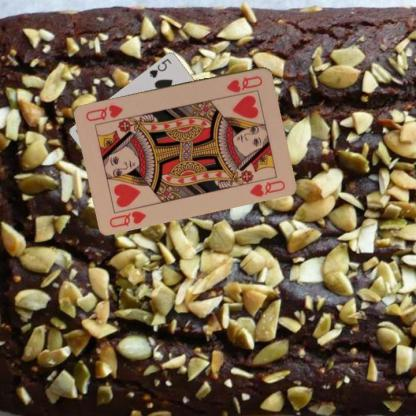5s: (147, 56, 173, 80)
Qh: (107, 207, 147, 229), (224, 73, 264, 94)
